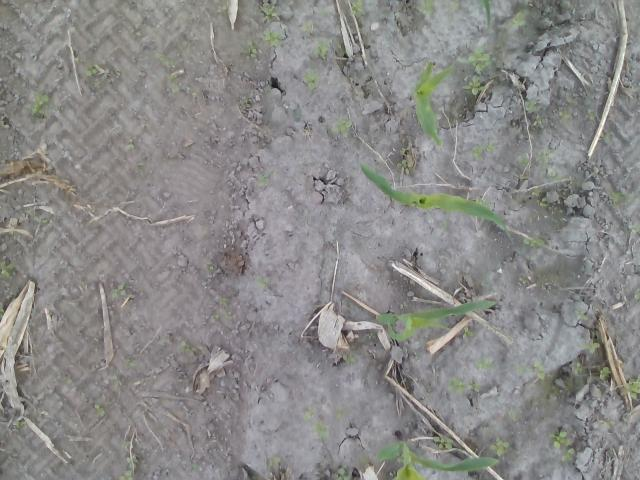Maize: (360, 160, 510, 232), (377, 435, 499, 480), (375, 299, 497, 340), (408, 60, 455, 148), (480, 0, 492, 29)
Weeds: (462, 48, 492, 96), (548, 429, 576, 464), (260, 5, 282, 46), (537, 146, 561, 182), (513, 362, 546, 381), (446, 376, 479, 393), (330, 116, 354, 139), (116, 455, 138, 480), (30, 89, 50, 116), (526, 99, 546, 126), (609, 190, 640, 207), (488, 435, 512, 456), (517, 236, 544, 254), (472, 142, 496, 162), (0, 255, 16, 282), (312, 418, 331, 440), (314, 39, 336, 58), (510, 7, 528, 30), (155, 53, 175, 73), (302, 70, 322, 90), (531, 188, 549, 208), (626, 376, 640, 400), (112, 282, 130, 300), (348, 0, 366, 16), (447, 0, 459, 24), (416, 0, 434, 16), (558, 110, 574, 128), (432, 434, 452, 448), (335, 463, 351, 480), (578, 342, 600, 354), (242, 40, 257, 57), (167, 74, 178, 96), (397, 159, 412, 174), (341, 352, 357, 366), (264, 456, 280, 470), (502, 408, 518, 422), (475, 357, 495, 368), (254, 276, 270, 289), (574, 309, 590, 322), (32, 214, 49, 226), (178, 342, 194, 354), (304, 402, 316, 418), (112, 369, 121, 390), (93, 404, 106, 418), (256, 174, 268, 188), (573, 360, 584, 375), (86, 64, 97, 78), (511, 171, 528, 180), (134, 162, 144, 176), (462, 327, 474, 338), (122, 358, 135, 368), (600, 420, 616, 428), (626, 223, 640, 232), (584, 110, 596, 120), (600, 367, 610, 379), (519, 273, 528, 286), (633, 286, 640, 302), (518, 156, 528, 167), (336, 407, 346, 417), (190, 462, 200, 472), (208, 260, 215, 273), (218, 297, 228, 306), (303, 22, 312, 32), (238, 95, 248, 103), (552, 378, 562, 386), (128, 142, 136, 151), (16, 421, 22, 432), (365, 331, 374, 337), (0, 306, 4, 319), (352, 168, 356, 176)
